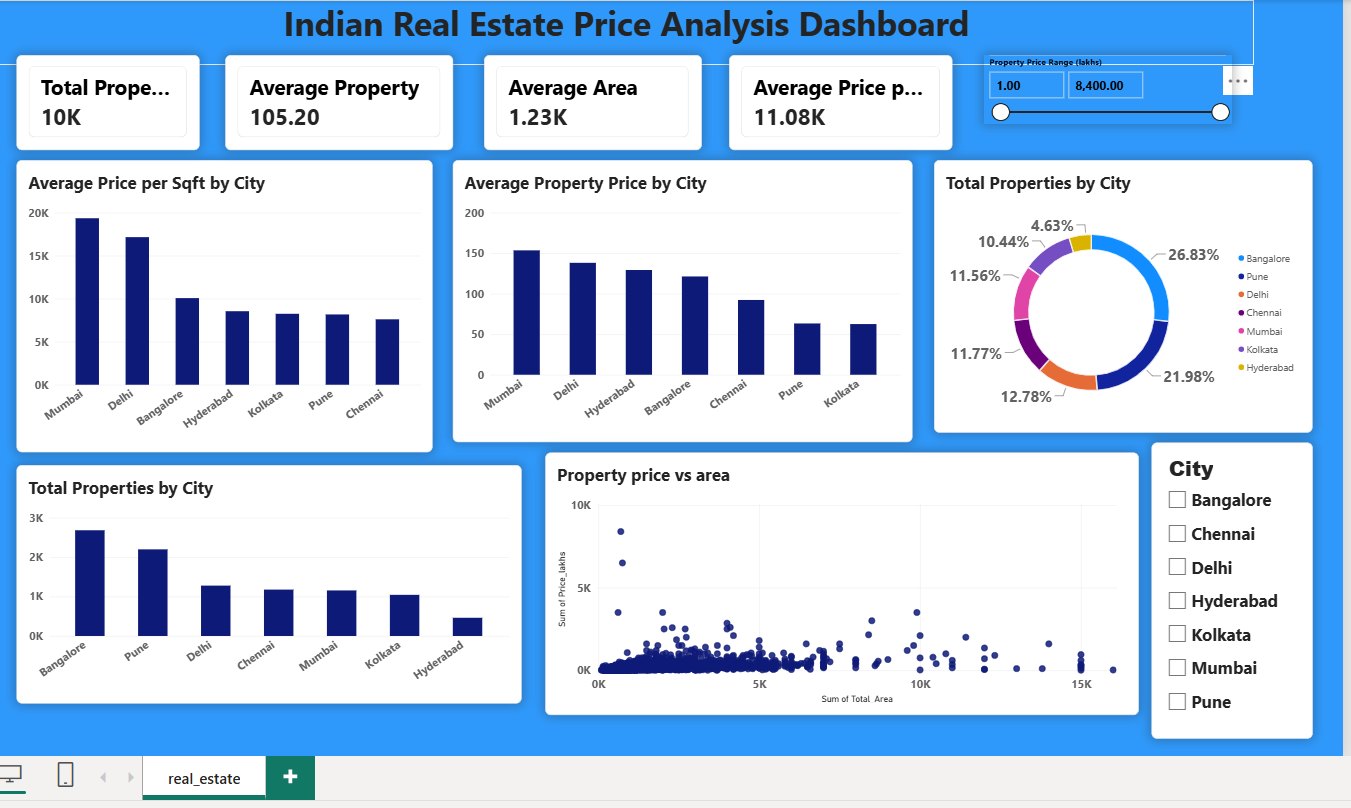

Layout of this report page (visuals, bound fields, positions):
{"tool":"powerbi","page":{"name":"real_estate","canvas":[1920,1080],"ordinal":0},"visuals":[{"type":"clusteredColumnChart","fields":{"Category":["Real Estate Data V21.City"],"Y":["Real Estate Data V21.Average Price per Sqft"]},"box":[25,228.6,594.6,417.9],"z":0},{"type":"slicer","fields":{"Values":["Real Estate Data V21.City"]},"box":[1646.4,632.1,230.4,423.2],"z":1},{"type":"textbox","box":[0,0,1792.8,92.6],"z":2},{"type":"cardVisual","fields":{"Data":["Real Estate Data V21.Total Properties"]},"box":[25,78.6,261.4,135.8],"z":3},{"type":"cardVisual","fields":{"Data":["Real Estate Data V21.Average Area"]},"box":[692.9,78.6,310.8,135.8],"z":4},{"type":"cardVisual","fields":{"Data":["Real Estate Data V21.Average Price per Sqft"]},"box":[1042.9,78.6,319,135.8],"z":5},{"type":"cardVisual","fields":{"Data":["Real Estate Data V21.Average Property Price"]},"box":[323.2,78.6,325.2,135.8],"z":6},{"type":"clusteredColumnChart","fields":{"Category":["Real Estate Data V21.City"],"Y":["Real Estate Data V21.Average Property Price"]},"box":[648.2,228.6,657.1,403.6],"z":7},{"type":"scatterChart","title":"Property price vs area","fields":{"Category":["Real Estate Data V21.Name"],"X":["Sum(Real Estate Data V21.Total_Area)"],"Y":["Sum(Real Estate Data V21.Price_lakhs)"]},"box":[780.4,646.4,848.2,375],"z":8},{"type":"clusteredColumnChart","fields":{"Category":["Real Estate Data V21.City"],"Y":["Real Estate Data V21.Total Properties"]},"box":[25,664.3,721.4,341.1],"z":9},{"type":"donutChart","fields":{"Category":["Real Estate Data V21.City"],"Y":["Real Estate Data V21.Total Properties"]},"box":[1335.7,228.6,541.1,389.3],"z":11},{"type":"slicer","fields":{"Values":["Real Estate Data V21.Price_lakhs"]},"box":[1407.2,78.6,353.6,98.2],"z":12}]}

Visuals, with their boxes in screenshot pixels (x1, y1, x2, y2):
clusteredColumnChart - Real Estate Data V21.City x Real Estate Data V21.Average Price per Sqft: [17, 155, 430, 445]
slicer - Real Estate Data V21.City: [1142, 435, 1302, 729]
textbox: [0, 0, 1244, 61]
cardVisual - Real Estate Data V21.Total Properties: [17, 51, 199, 145]
cardVisual - Real Estate Data V21.Average Area: [481, 51, 696, 145]
cardVisual - Real Estate Data V21.Average Price per Sqft: [724, 51, 945, 145]
cardVisual - Real Estate Data V21.Average Property Price: [224, 51, 450, 145]
clusteredColumnChart - Real Estate Data V21.City x Real Estate Data V21.Average Property Price: [450, 155, 906, 435]
"Property price vs area" scatterChart: [542, 445, 1130, 705]
clusteredColumnChart - Real Estate Data V21.City x Real Estate Data V21.Total Properties: [17, 457, 518, 694]
donutChart - Real Estate Data V21.City x Real Estate Data V21.Total Properties: [927, 155, 1302, 425]
slicer - Real Estate Data V21.Price_lakhs: [976, 51, 1222, 119]
